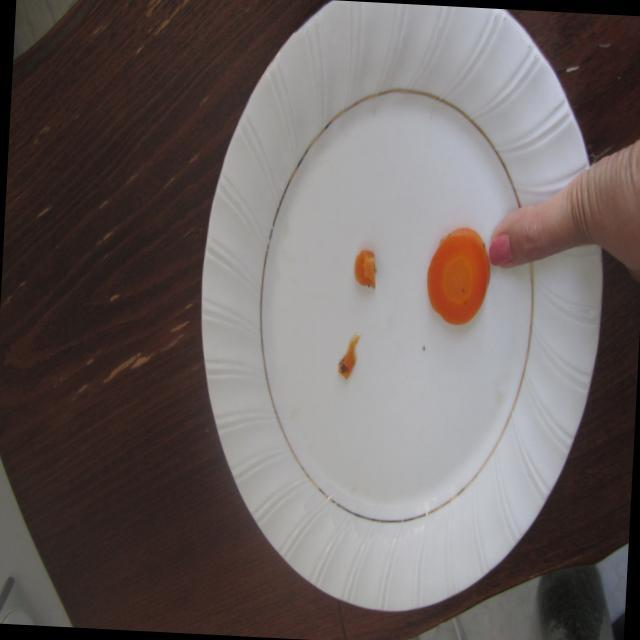Carrot: (422, 222, 494, 328)
Finger: (485, 196, 556, 275)
